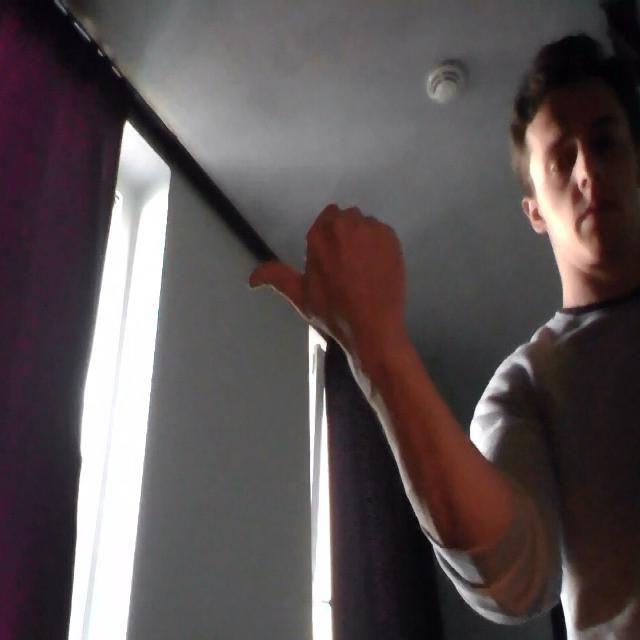left: (246, 194, 420, 361)
